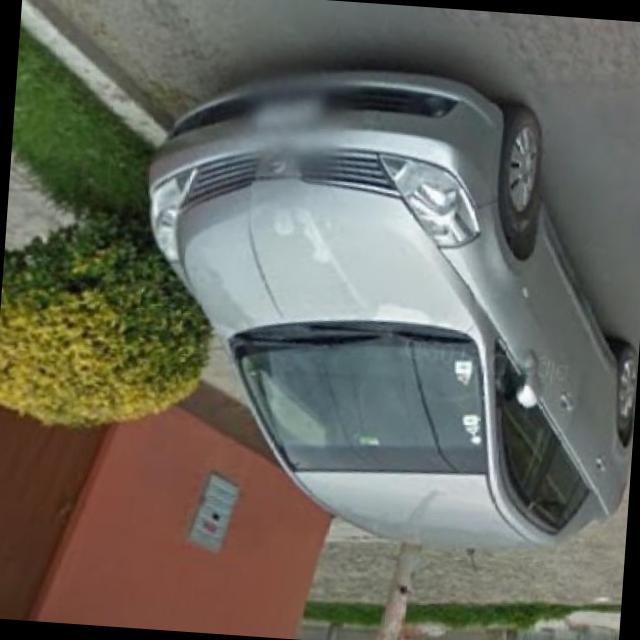car: (127, 43, 640, 571)
